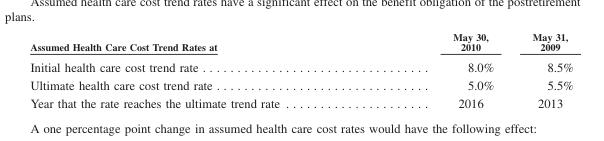table: (29, 29, 572, 110)
table column: (29, 29, 365, 110), (365, 29, 512, 110), (512, 29, 572, 110)
table column header: (29, 29, 572, 55)
table row: (29, 29, 572, 55), (29, 55, 572, 75), (29, 92, 572, 110), (29, 75, 572, 92)
